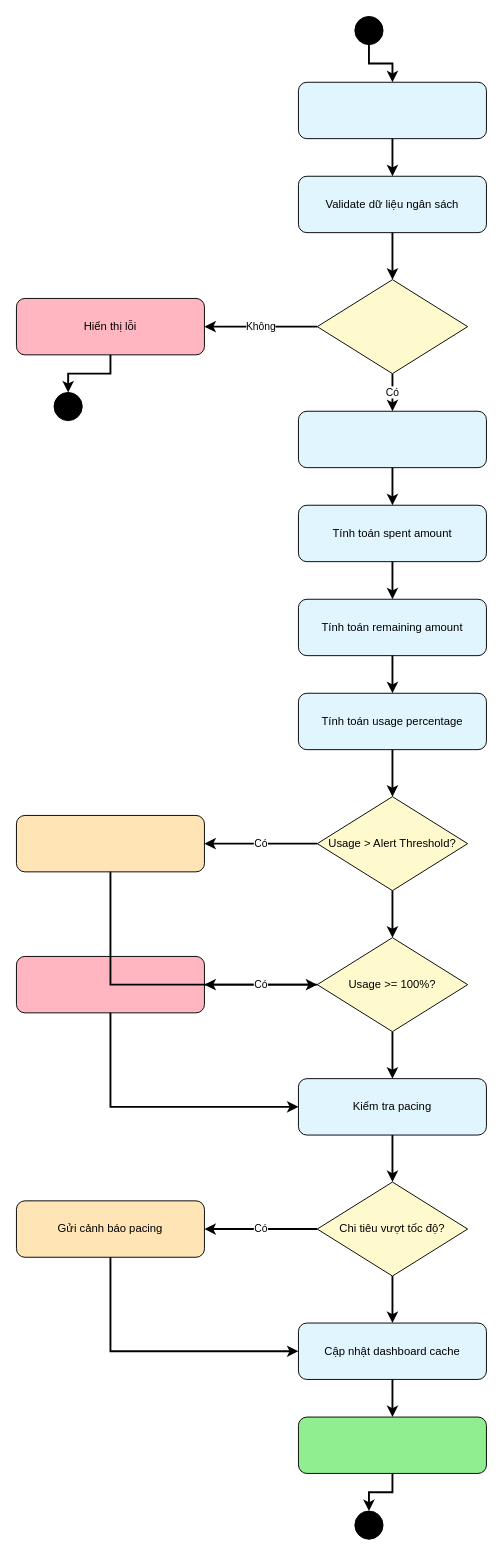
Image size: 503x1556. Some labels were removed from this diagram. The centre of each missing label's shape, as x and y in pixels:
"Dữ liệu hợp lệ?" goes at pixel 392 326.
"Gửi thông báo cảnh báo" goes at pixel 110 843.
"Gửi thông báo vượt ngân sách" goes at pixel 110 984.
"Hiển thị kết quả" goes at pixel 392 1444.
"Lưu ngân sách vào DB" goes at pixel 392 439.
"User tạo/cập nhật ngân sách" goes at pixel 392 110.
